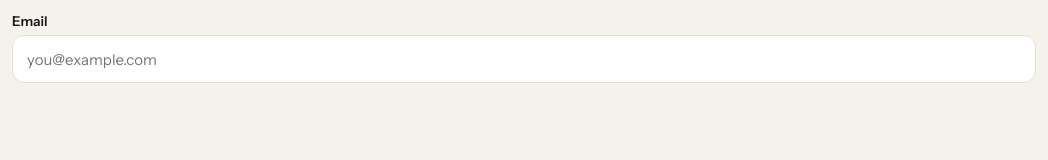
Test: EmailField › shows an inline error once blurred with an invalid address
Step 1. Type "not-an-email" into the field labelled "Email" → (524, 59), box left=12, top=35, right=1036, bottom=83
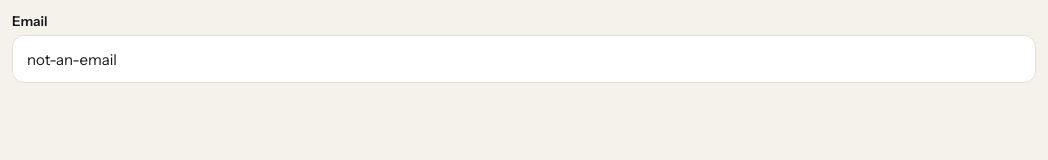
Step 2. Leave the field labelled "Email", box left=12, top=35, right=1036, bottom=83
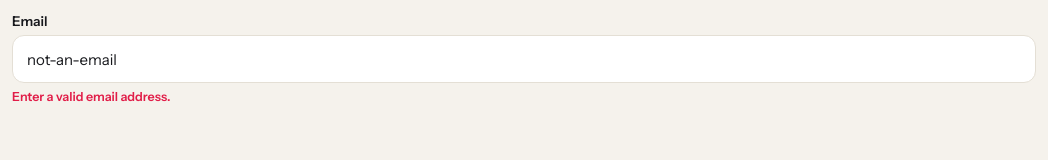
Expected: the text "Enter a valid email address." is shown, left=12, top=89, right=170, bottom=104
